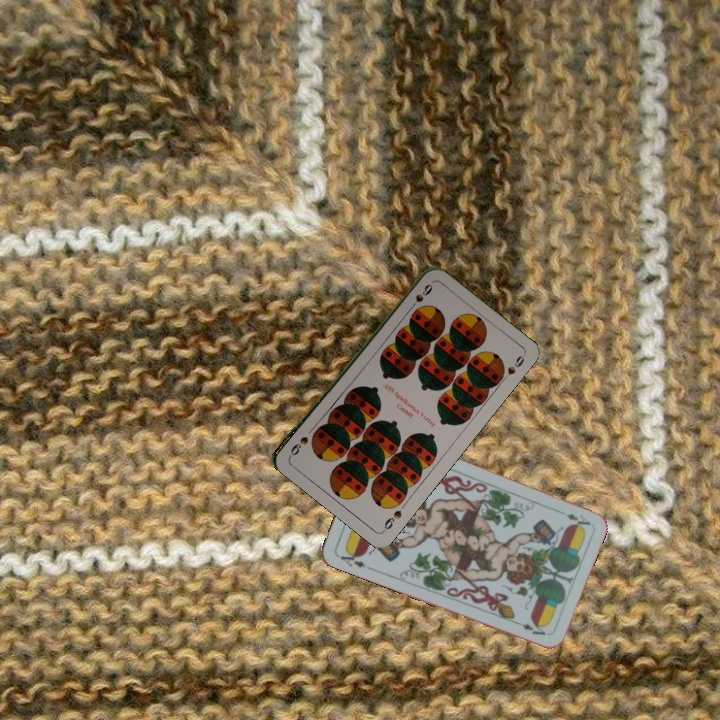EA: (334, 546, 368, 570), (562, 509, 593, 530)
S9: (405, 280, 435, 314), (379, 506, 405, 534)
